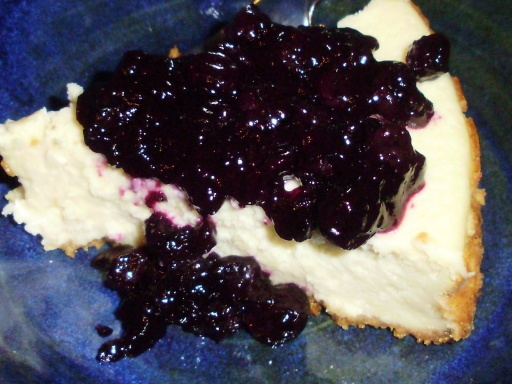background: (0, 0, 390, 218)
